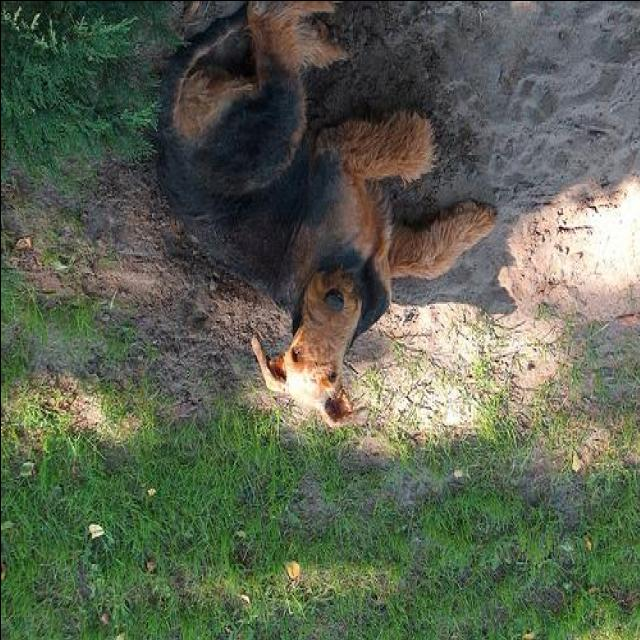airedale: (155, 2, 497, 428)
